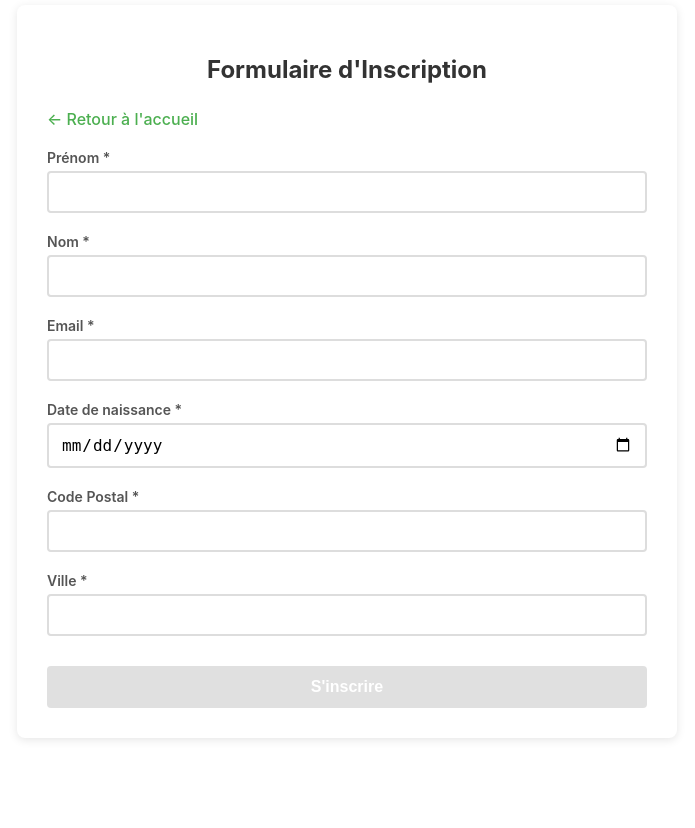
Scenario: RegistrationForm - Integration Tests › should display error message when network fails (no response)
The width and height of the screenshot is (695, 828).
Type "John" into the field labelled "Prénom *" at (347, 192), box top-left (47, 171), bottom-right (647, 213)
Type "Doe" into the field labelled "Nom *" at (347, 276), box top-left (47, 255), bottom-right (647, 297)
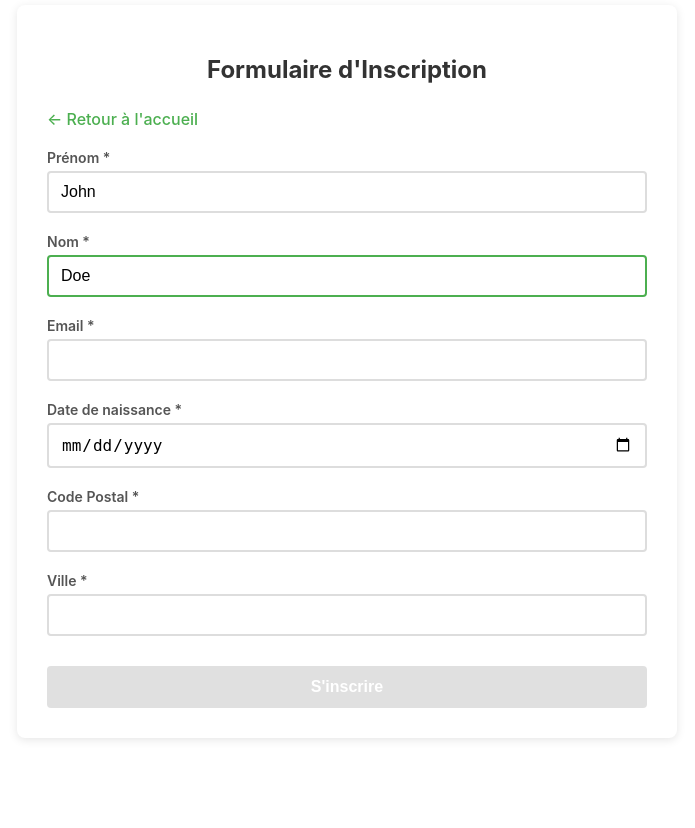
Type "test@example.com" into the field labelled "Email *" at (347, 360), box top-left (47, 339), bottom-right (647, 381)
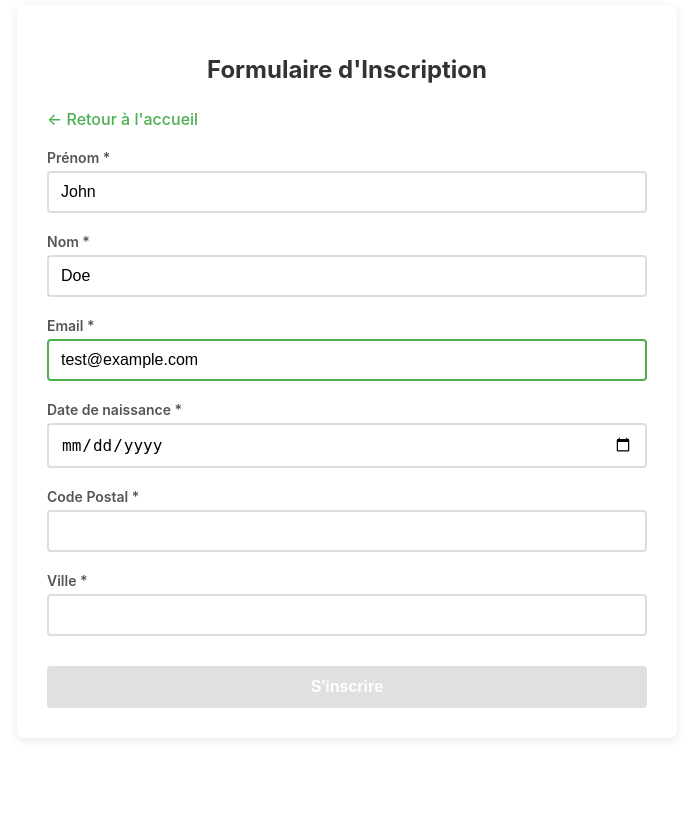
Type "1990-01-01" into the date field labelled "Date de naissance *" at (347, 445), box top-left (47, 423), bottom-right (647, 468)
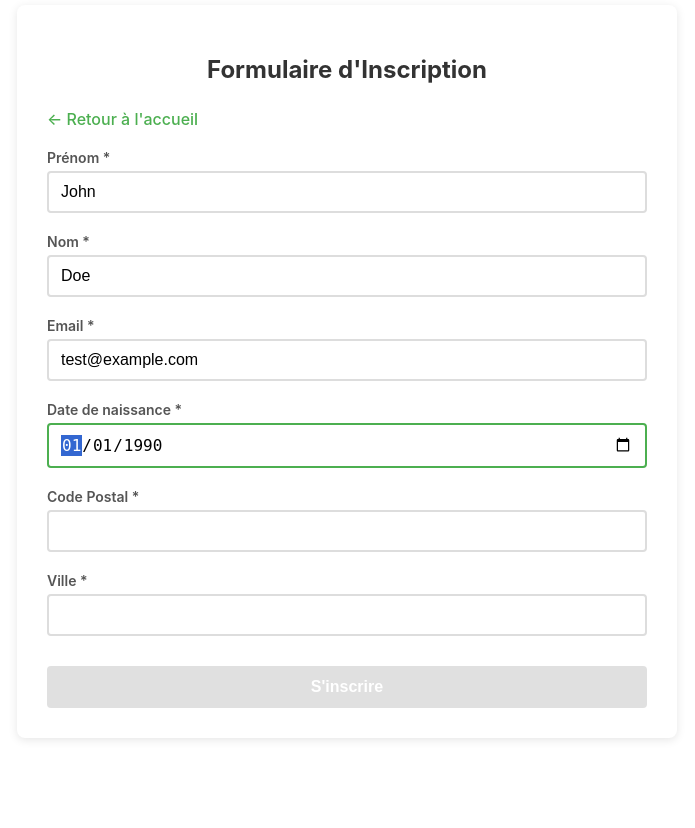
Type "75001" into the field labelled "Code Postal *" at (347, 531), box top-left (47, 510), bottom-right (647, 552)
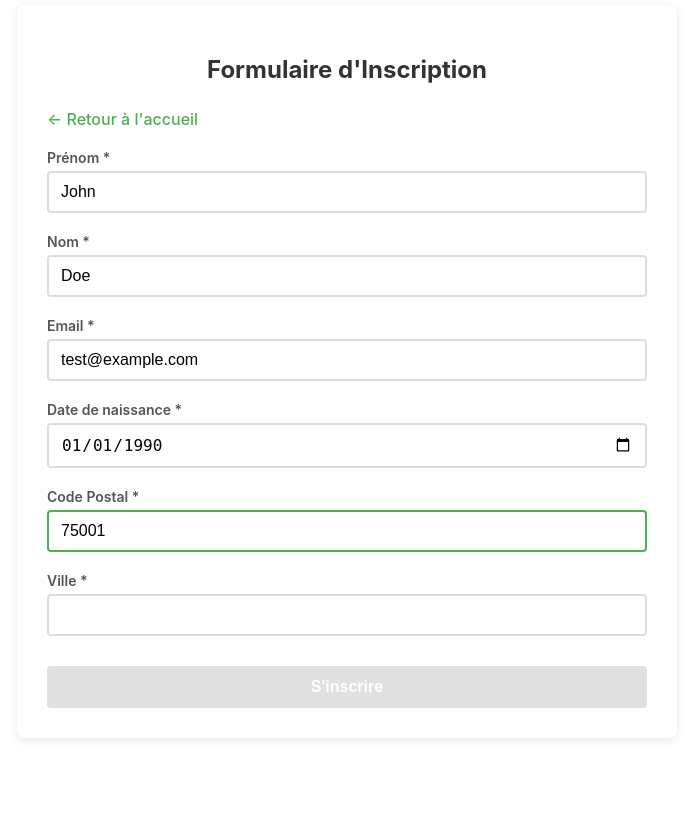
Type "Paris" into the field labelled "Ville *" at (347, 615), box top-left (47, 594), bottom-right (647, 636)
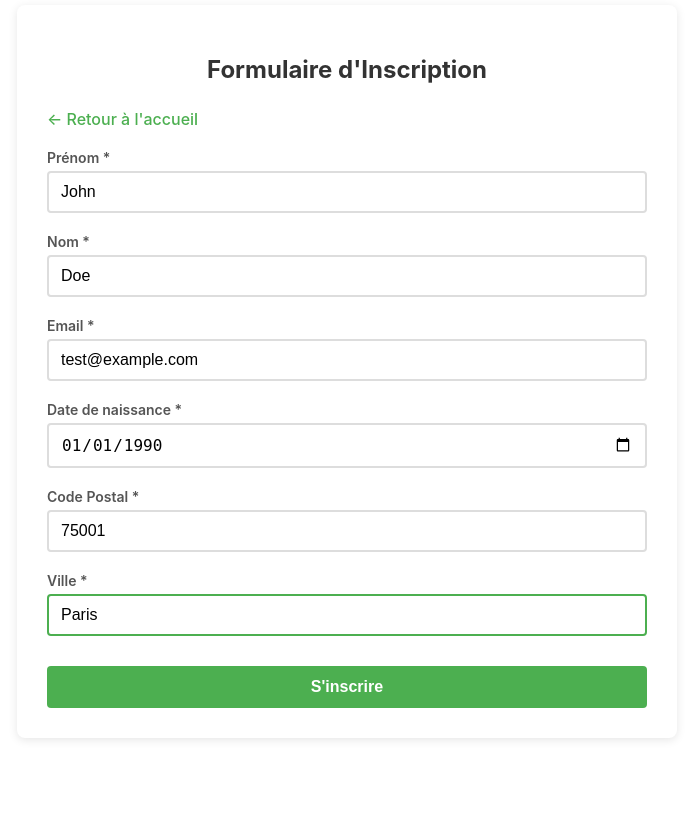
Check: the button with test id "submit-button" is enabled
Click the button with test id "submit-button" at (347, 687), box top-left (47, 666), bottom-right (647, 708)
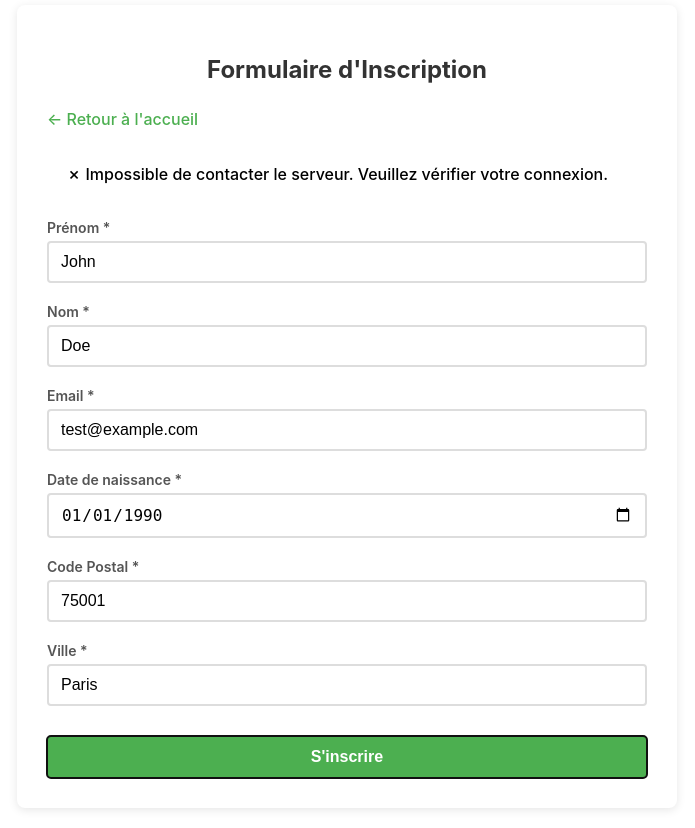
Check: the text with test id "api-error-toaster" is shown, box top-left (67, 164), bottom-right (608, 184)
Check: the text with test id "api-error-toaster" shows "Impossible de contacter le serveur. Veuillez vérifier votre connexion.", box top-left (85, 164), bottom-right (608, 184)
